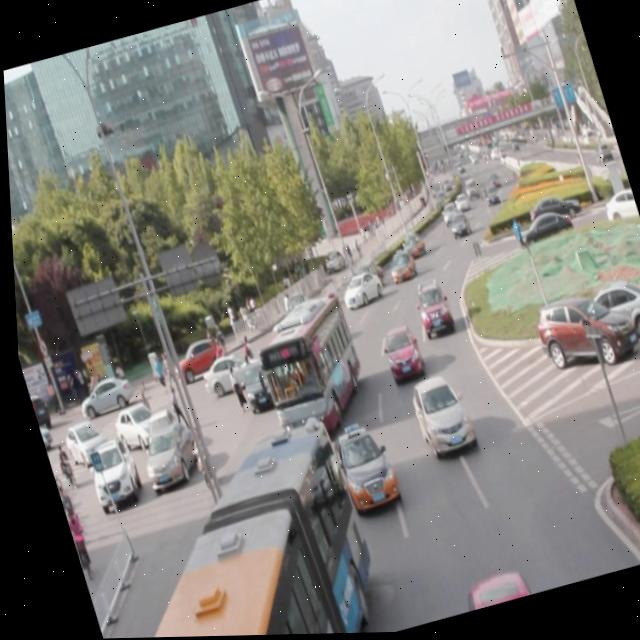car: (322, 421, 398, 516), (400, 369, 474, 461), (194, 345, 262, 398), (454, 565, 525, 612), (373, 322, 424, 387), (407, 279, 454, 342), (288, 307, 337, 366), (231, 359, 278, 417), (270, 336, 321, 388), (334, 270, 382, 310), (259, 323, 299, 370), (380, 248, 417, 287), (345, 259, 384, 295), (393, 230, 423, 261)
van: (50, 421, 381, 639), (243, 294, 370, 440)
